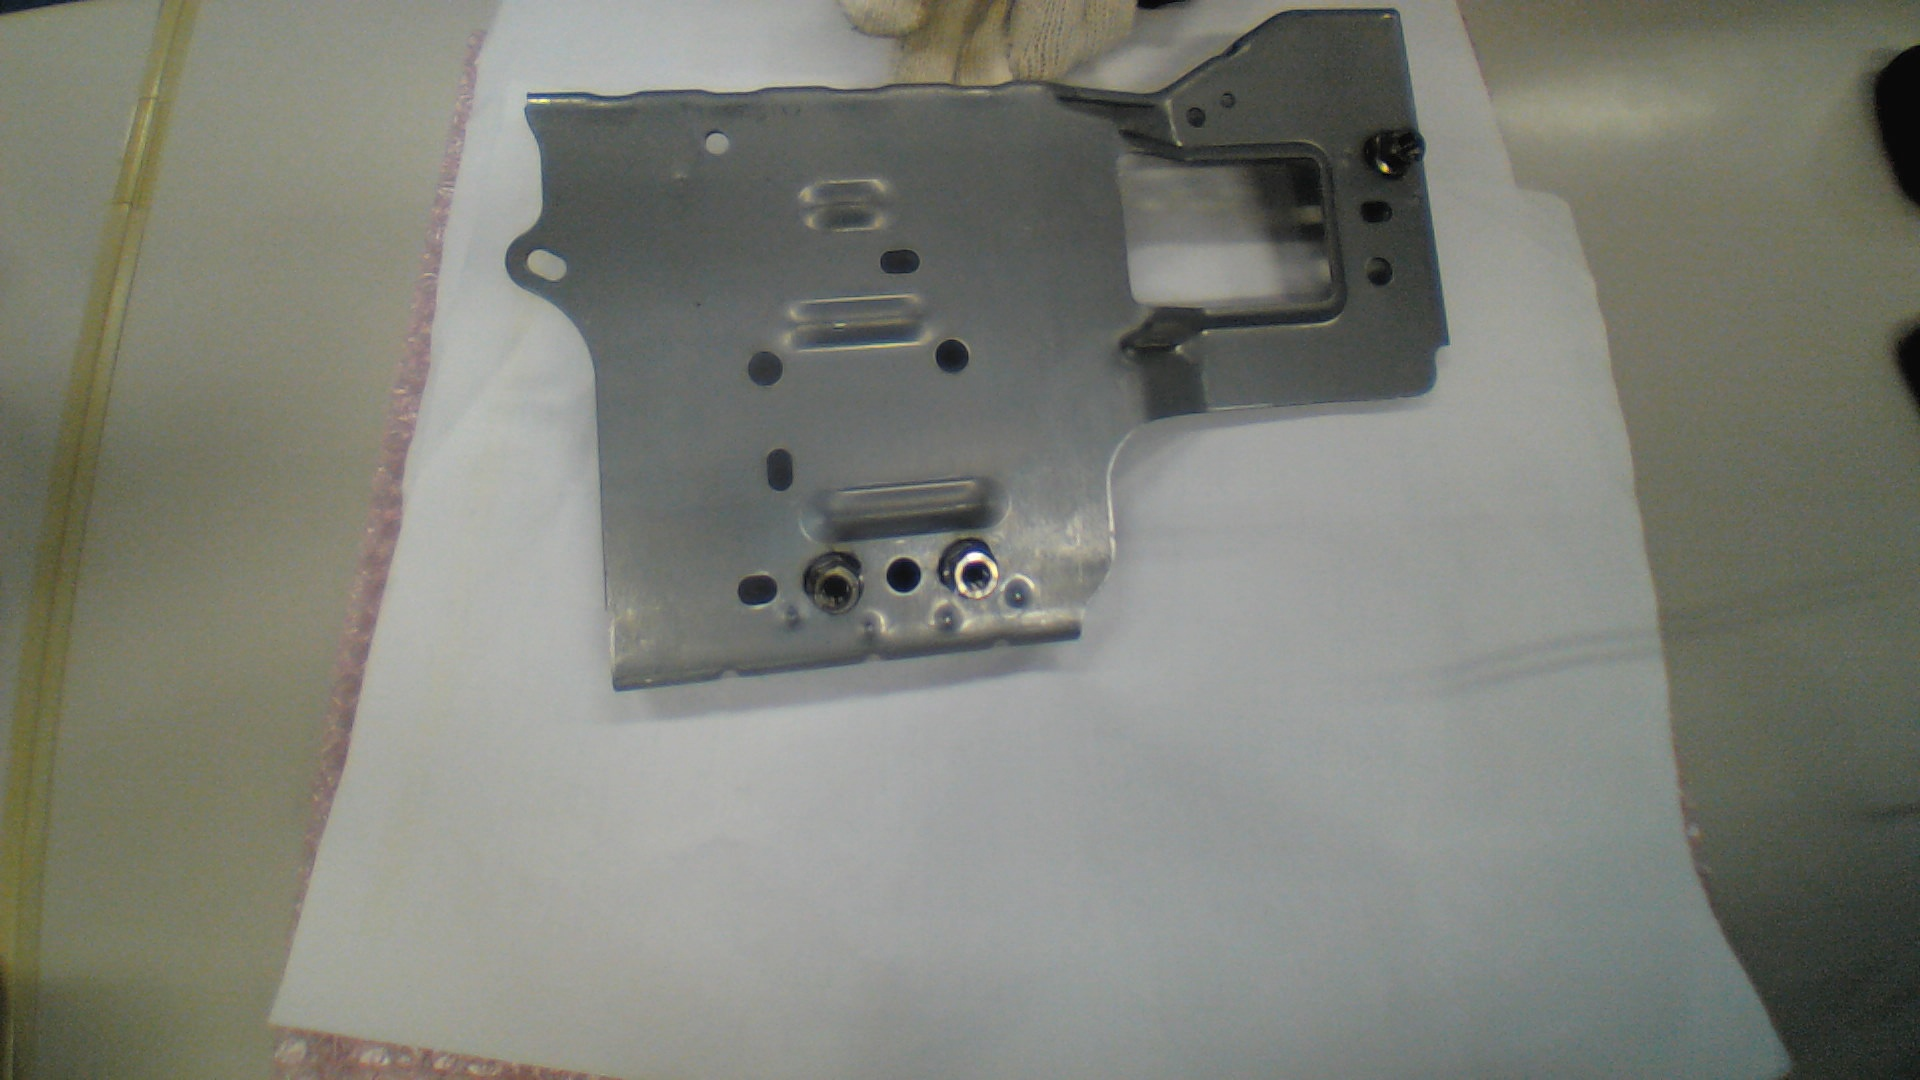dog: (938, 539, 1000, 600), (804, 553, 864, 611), (1366, 129, 1425, 181)
